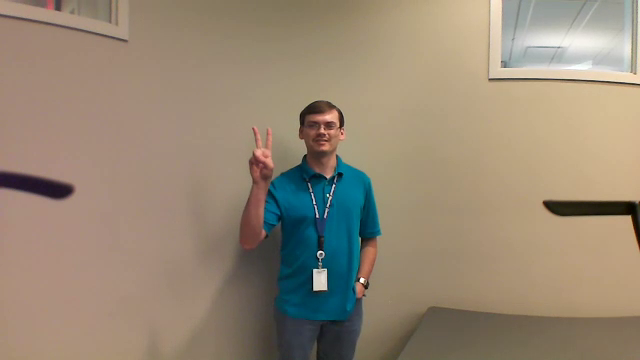peace: (248, 124, 280, 186)
